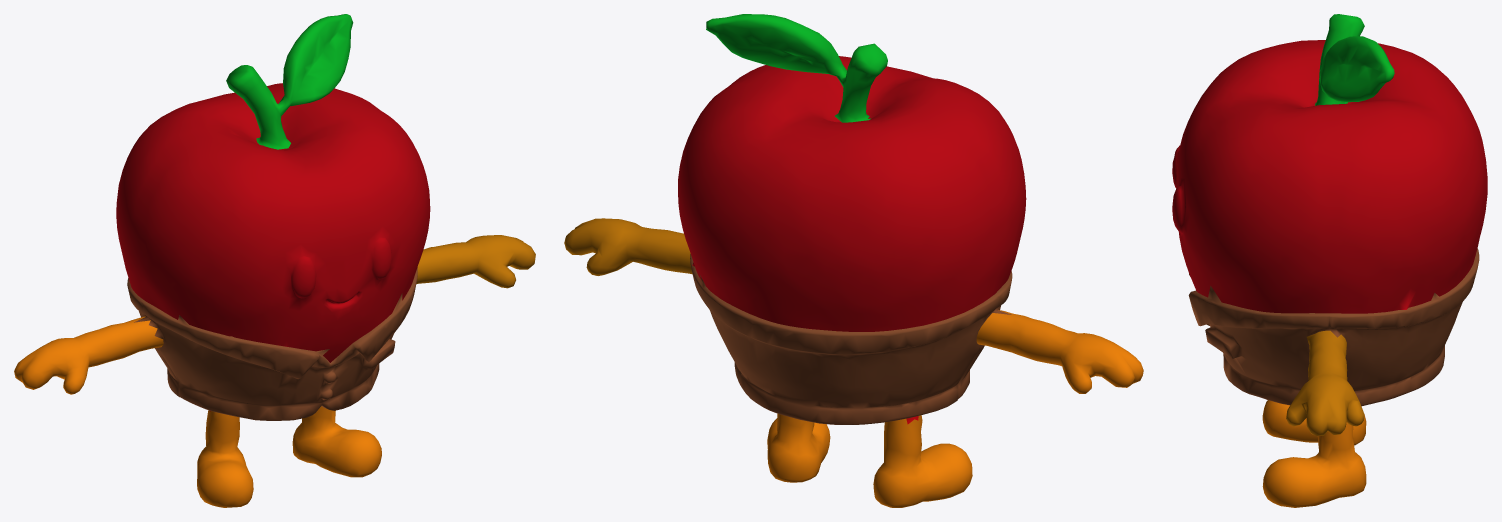
File: Cthapel.glb
3 views of the same model, side by side, from view 1: azimuth 30°, elevation 25°; view 2: azimuth 150°, elevation 25°; view 3: azimuth 270°, elevation 25° (orthographic). The views are drawn at different scales.
Parts seen in each view (by area): view 1: tripo_part_0, tripo_part_2, tripo_part_3, tripo_part_1, tripo_part_6, tripo_part_7, tripo_part_5; view 2: tripo_part_0, tripo_part_2, tripo_part_3, tripo_part_1, tripo_part_5, tripo_part_6, tripo_part_7; view 3: tripo_part_0, tripo_part_2, tripo_part_7, tripo_part_6, tripo_part_3, tripo_part_5.
Boxes of the visible parts, left/top/right/bottom form: tripo_part_0: left=116, top=83, right=430, bottom=362; tripo_part_2: left=127, top=267, right=417, bottom=420; tripo_part_3: left=226, top=14, right=353, bottom=149; tripo_part_1: left=14, top=316, right=163, bottom=394; tripo_part_6: left=416, top=235, right=535, bottom=288; tripo_part_7: left=292, top=406, right=381, bottom=477; tripo_part_5: left=197, top=410, right=253, bottom=507; tripo_part_0: left=678, top=56, right=1026, bottom=331; tripo_part_2: left=690, top=254, right=1012, bottom=424; tripo_part_3: left=706, top=14, right=887, bottom=122; tripo_part_1: left=976, top=310, right=1143, bottom=393; tripo_part_5: left=873, top=415, right=972, bottom=507; tripo_part_6: left=564, top=218, right=692, bottom=275; tripo_part_7: left=767, top=413, right=830, bottom=482; tripo_part_0: left=1172, top=40, right=1487, bottom=313; tripo_part_2: left=1188, top=248, right=1479, bottom=406; tripo_part_7: left=1262, top=422, right=1366, bottom=507; tripo_part_6: left=1286, top=330, right=1364, bottom=435; tripo_part_3: left=1315, top=14, right=1394, bottom=105; tripo_part_5: left=1262, top=400, right=1366, bottom=445.
Bounding box in the file's own units: 1 × 0.7854 × 0.4905.
